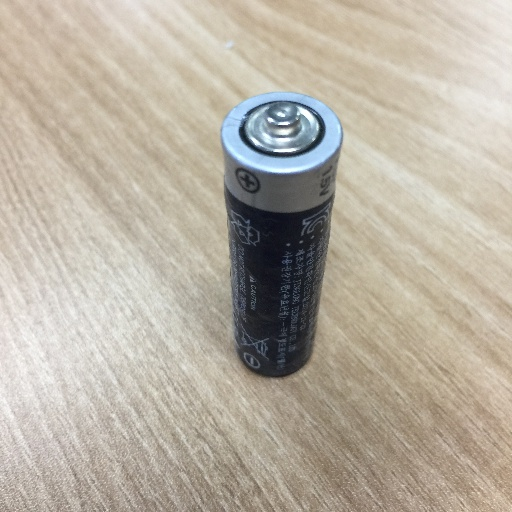Battery_0: (206, 84, 361, 392)
